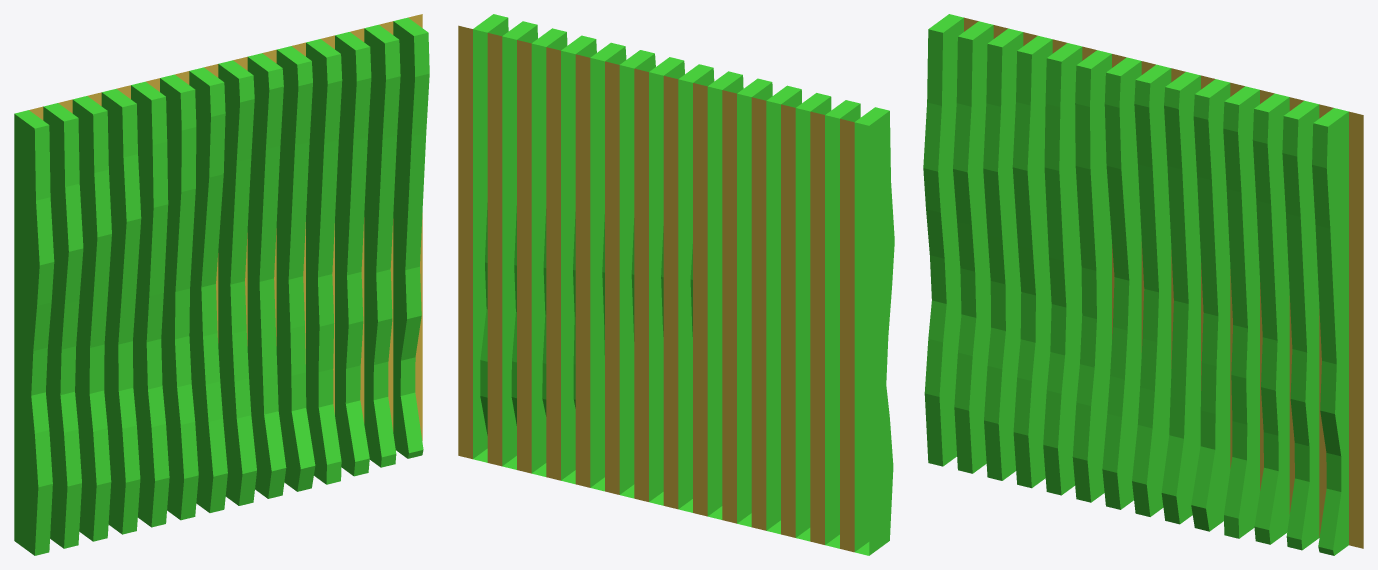
The model's file is Wall_48.fbx.
3 renders of one model, left to right at view 1: azimuth 30°, elevation 25°; view 2: azimuth 150°, elevation 25°; view 3: azimuth 330°, elevation 25°, orthographic.
Parts seen in each view (by area): view 1: Wall_48; view 2: Wall_48; view 3: Wall_48.
Boxes of the visible parts, <box> form: Wall_48: <box>14,14,429,555</box>; Wall_48: <box>458,14,894,555</box>; Wall_48: <box>923,14,1363,555</box>.
Size of the model in its own units: 457 by 457 by 49.4.
